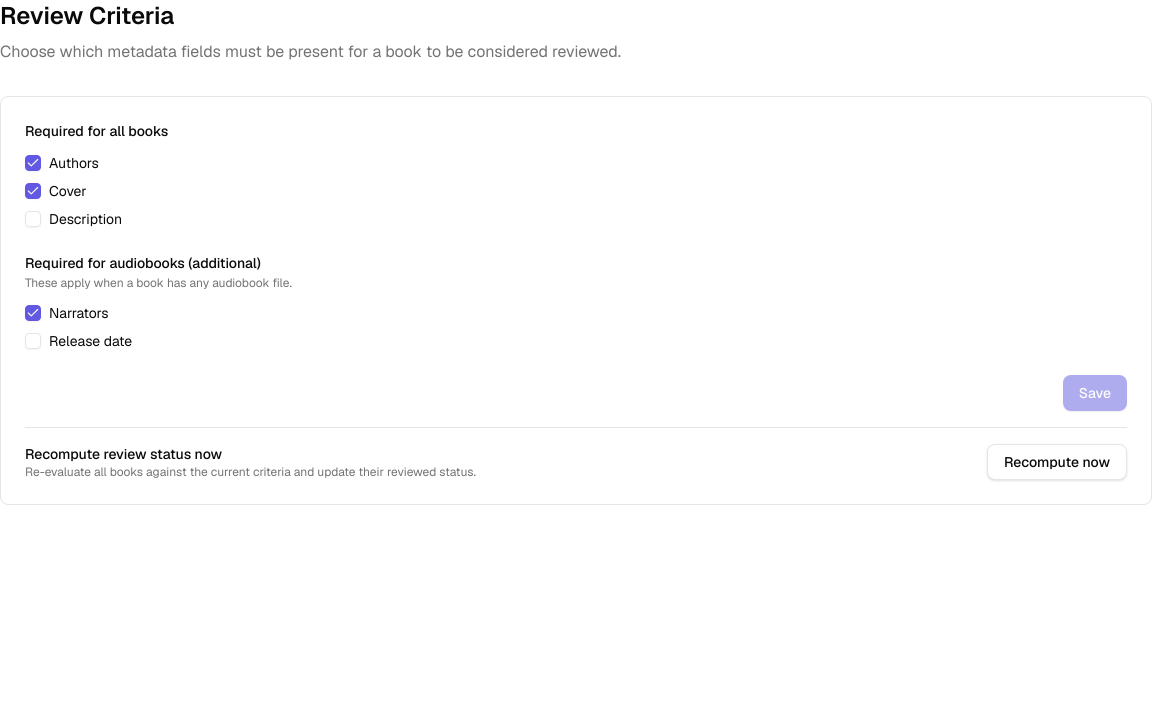
Test: AdminReviewCriteria › Recompute now button opens confirmation dialog when overrides exist
This screenshot has width=1152, height=720.
Click the button "Recompute now". click: (1057, 462)
box: [987,444,1127,480]
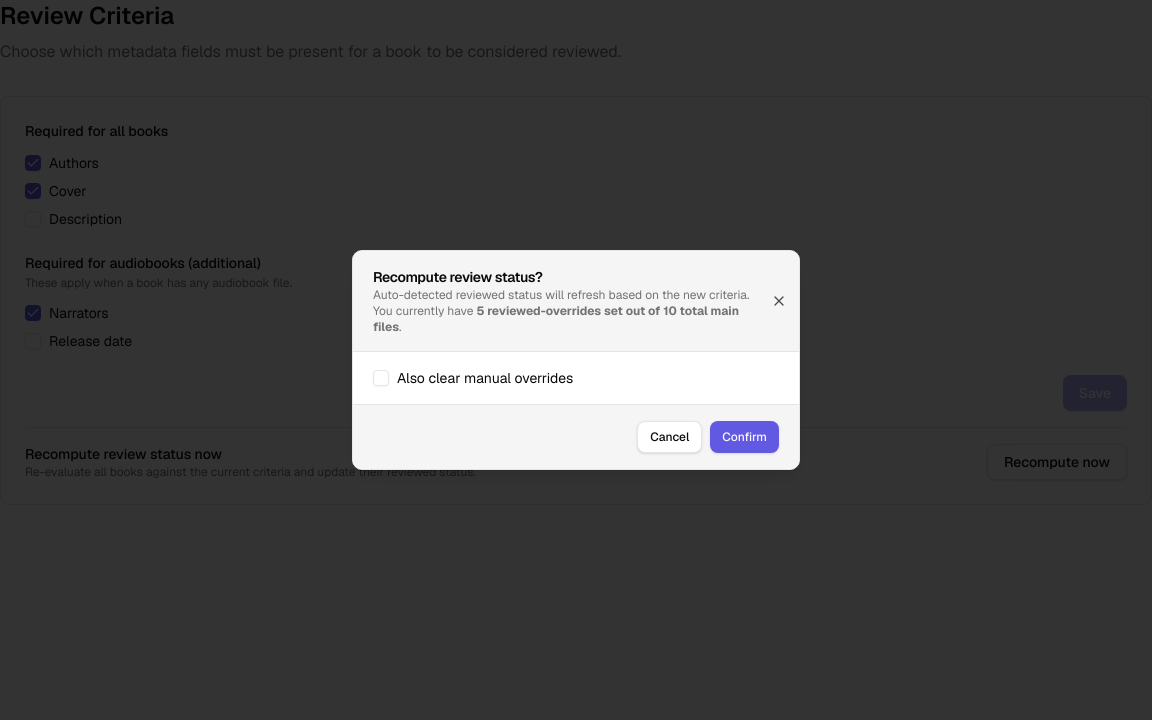
Expected: the heading "Recompute review status?" is shown, [373,268,542,286]
Expected: the text "5 reviewed-overrides set out of 10 total main files" is shown, [373,303,739,335]
